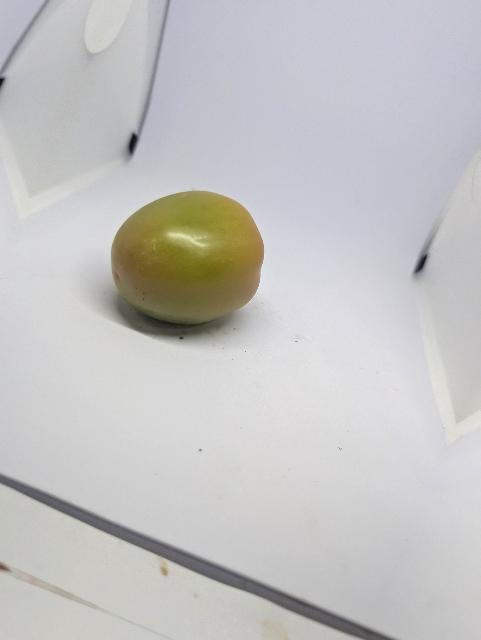breaker: (108, 185, 269, 330)
